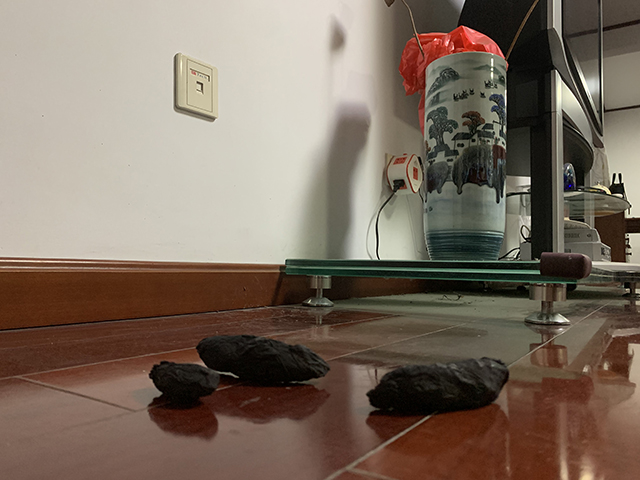cabinet: (282, 69, 640, 327)
feces: (148, 334, 333, 405), (364, 355, 513, 416)
